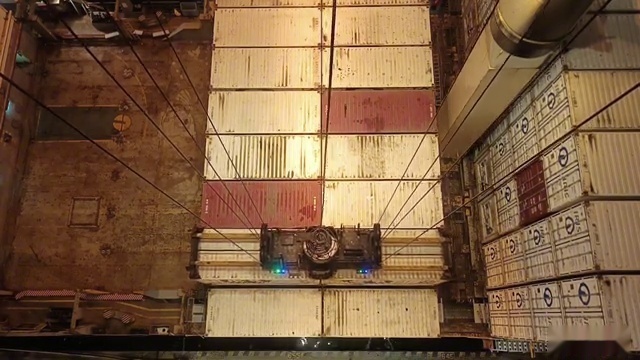container: (188, 222, 454, 283), (197, 180, 446, 230), (204, 289, 443, 339), (202, 133, 439, 180), (207, 43, 434, 92), (205, 92, 436, 132), (208, 4, 432, 45)
guide_mark: (101, 322, 545, 340), (62, 352, 562, 360)
spreader: (182, 219, 469, 286)
target_slot: (184, 220, 468, 287)
